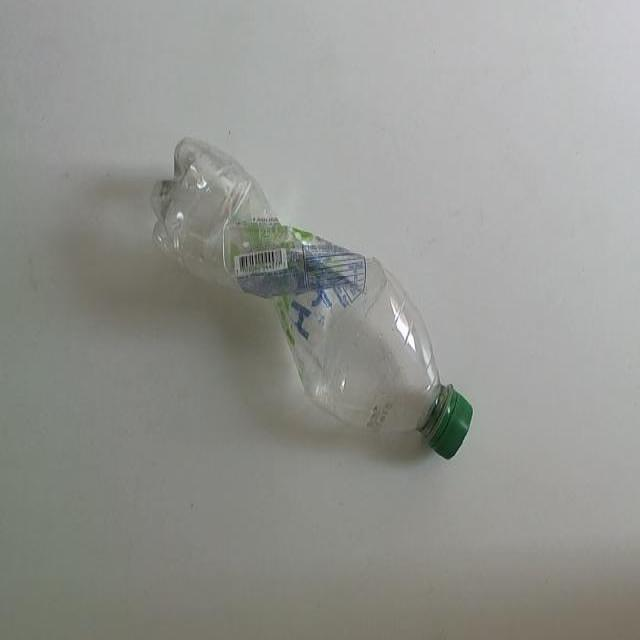defect: (147, 133, 475, 464)
